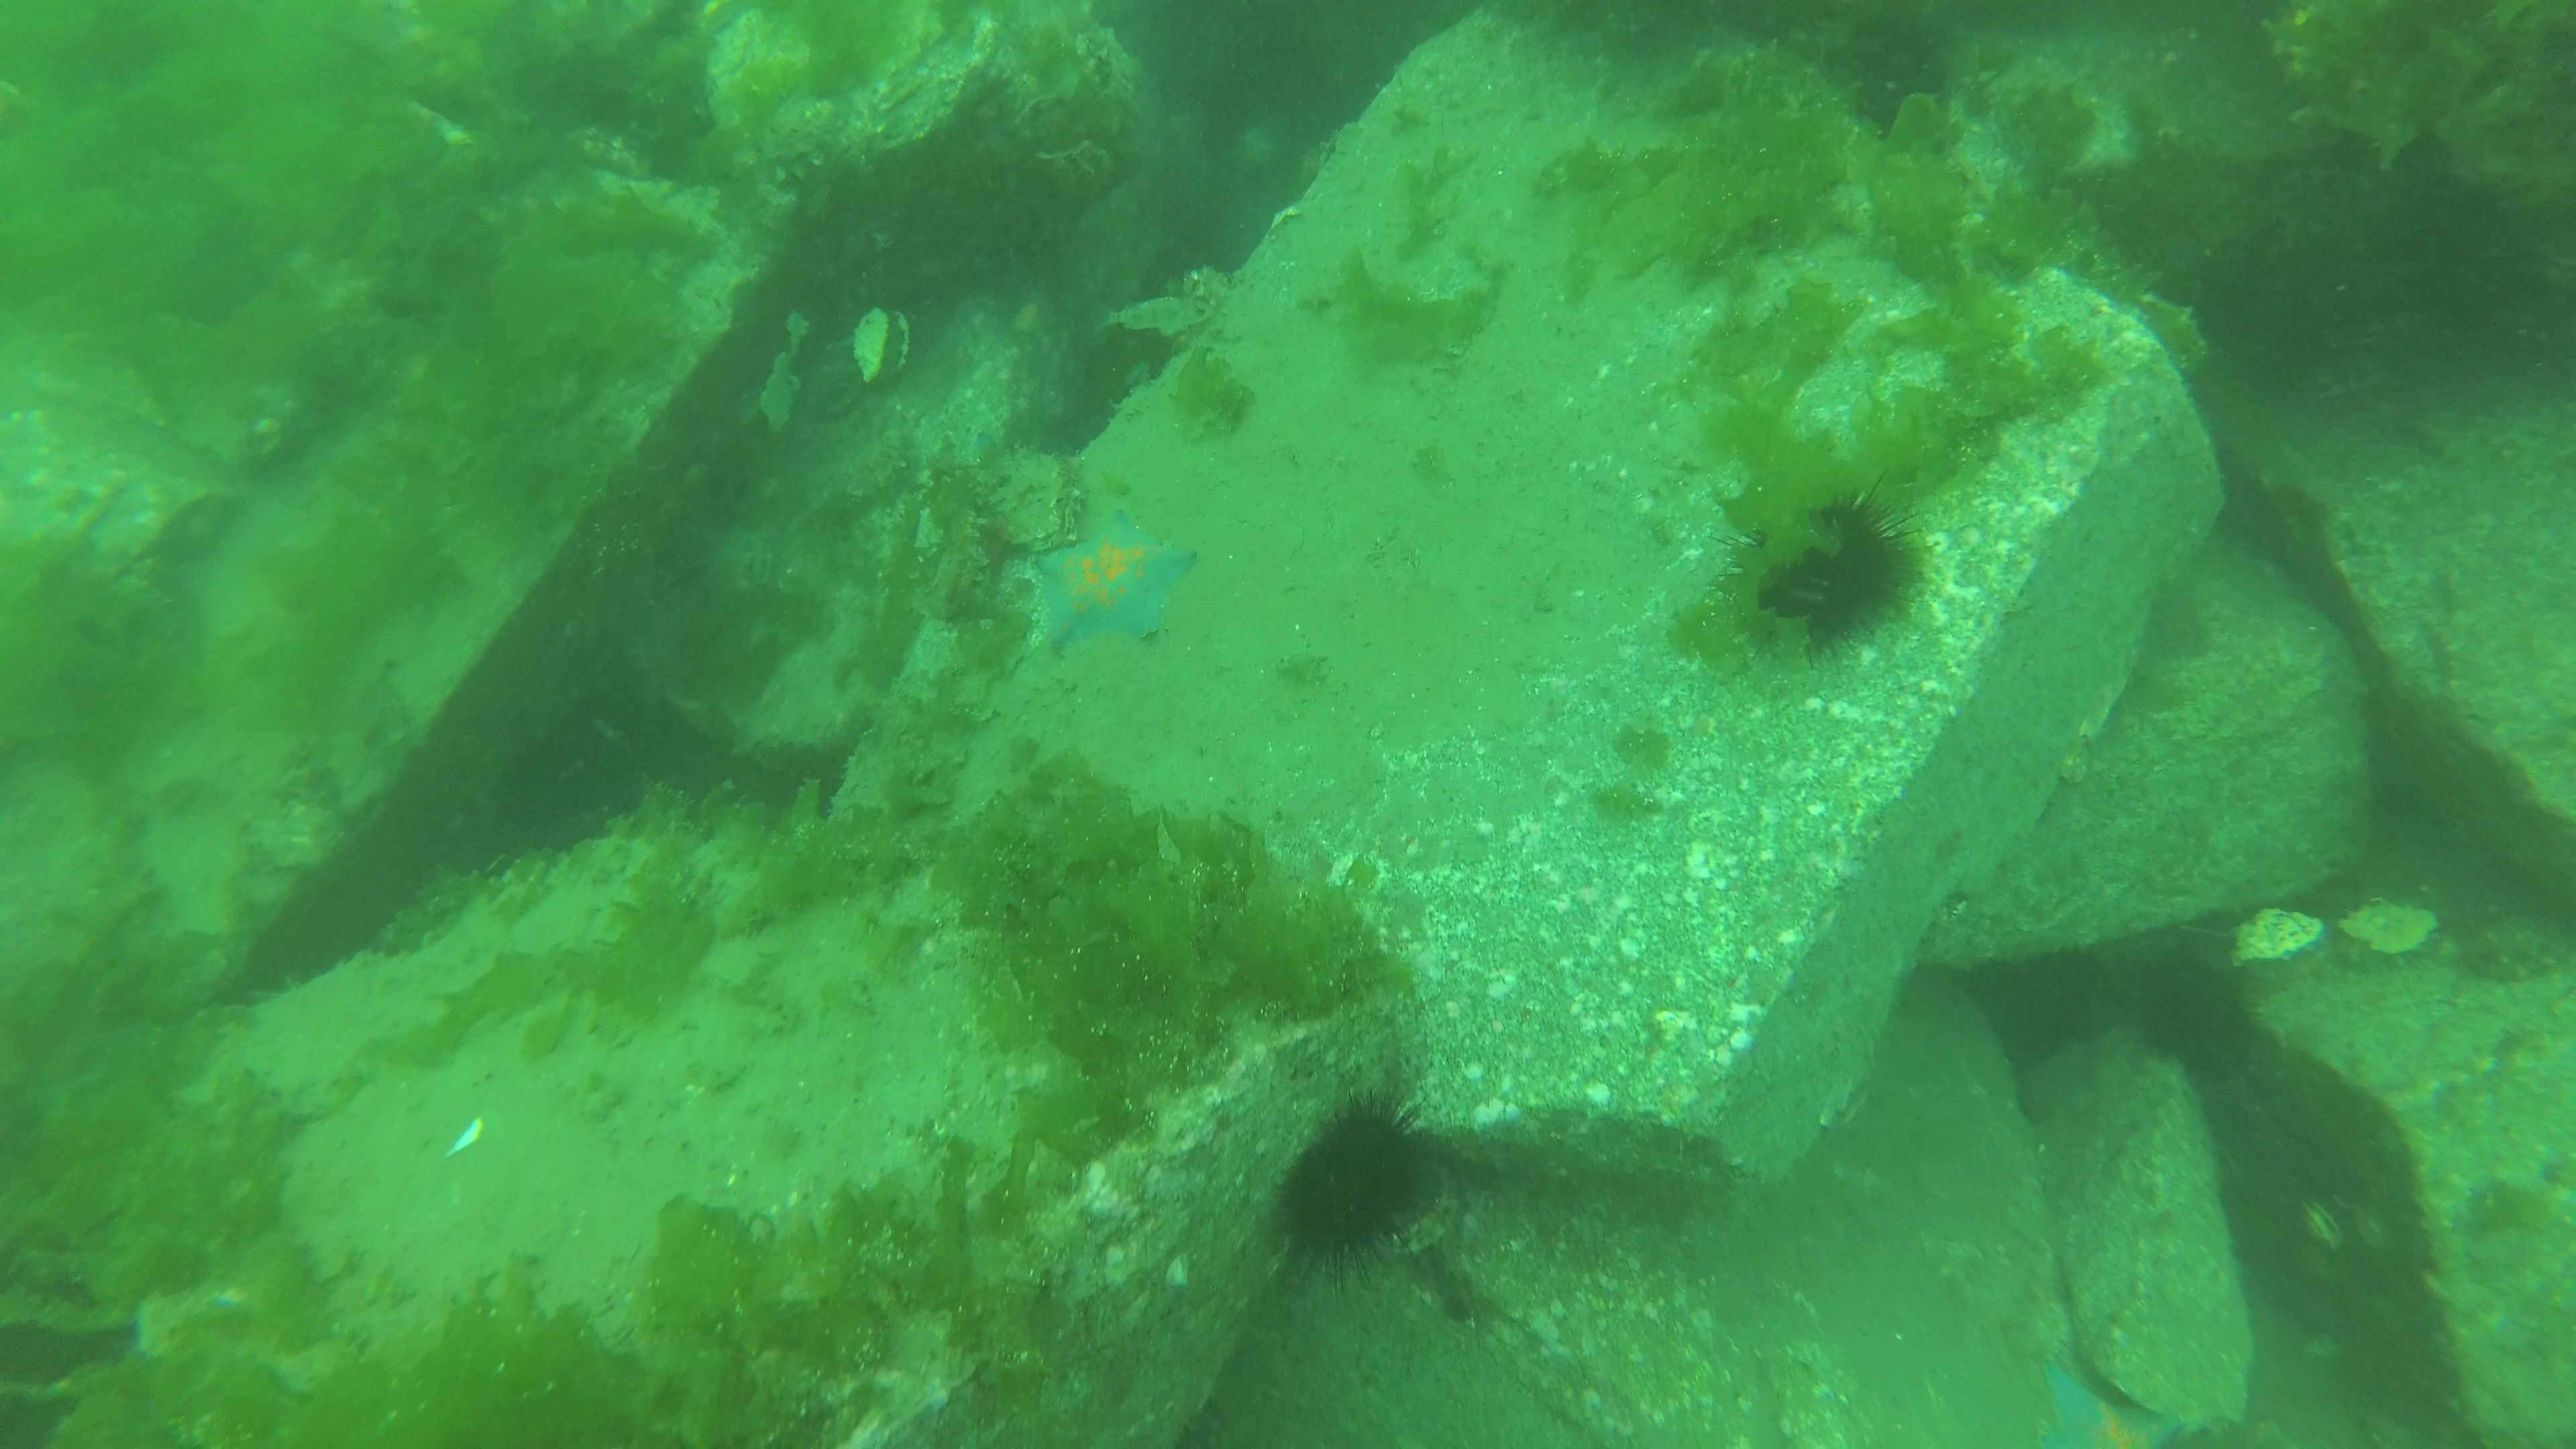echinus: (1718, 497, 1913, 669), (1265, 1097, 1430, 1277), (2139, 954, 2250, 1079)
starfish: (1028, 511, 1203, 660), (2033, 1357, 2190, 1449)
